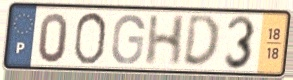0: (35, 10, 70, 65)
3: (223, 14, 258, 72)
D: (181, 13, 222, 70)
G: (109, 13, 147, 67)
H: (143, 13, 189, 68)
O: (71, 11, 109, 67)
